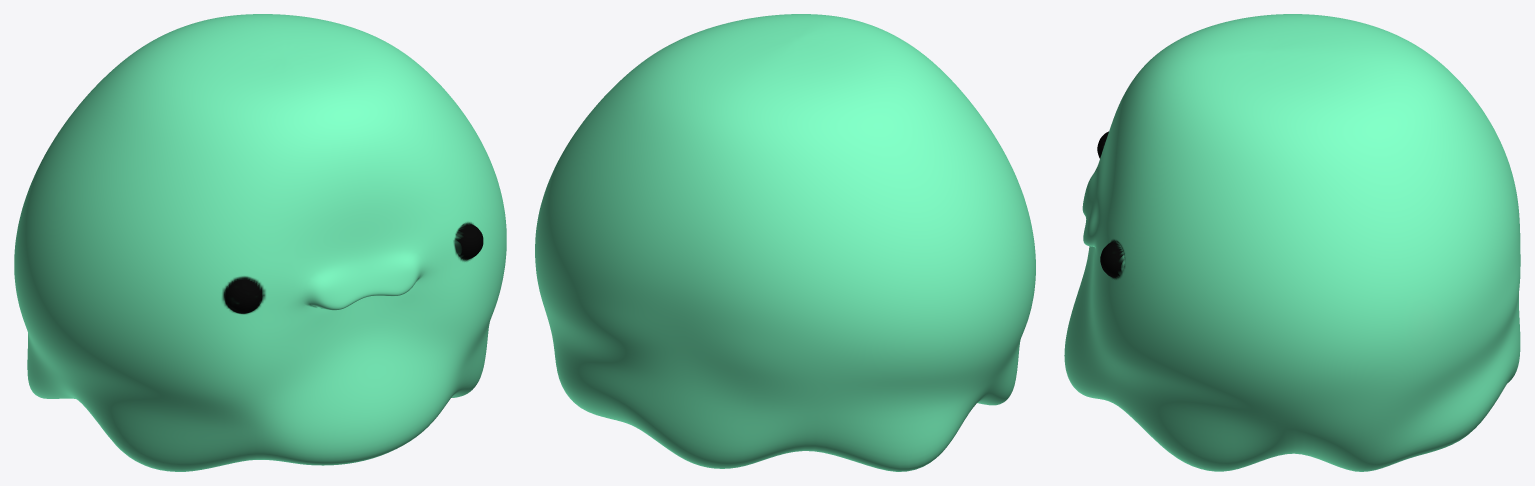
Rendered from Slime_Model_Textured.fbx.
The picture shows the model from 3 angles, left to right: view 1: azimuth 30°, elevation 25°; view 2: azimuth 150°, elevation 25°; view 3: azimuth 270°, elevation 25°; orthographic projection.
Parts seen in each view (by area): view 1: pSphere4; view 2: pSphere4; view 3: pSphere4.
Part boxes in pixels (bbox=[...]): pSphere4: bbox=[14, 14, 506, 471]; pSphere4: bbox=[535, 14, 1035, 471]; pSphere4: bbox=[1064, 14, 1520, 471].
Size of the model in its own units: 19.11 by 14.28 by 16.94.
Materials: 1 (1 with a texture image).
